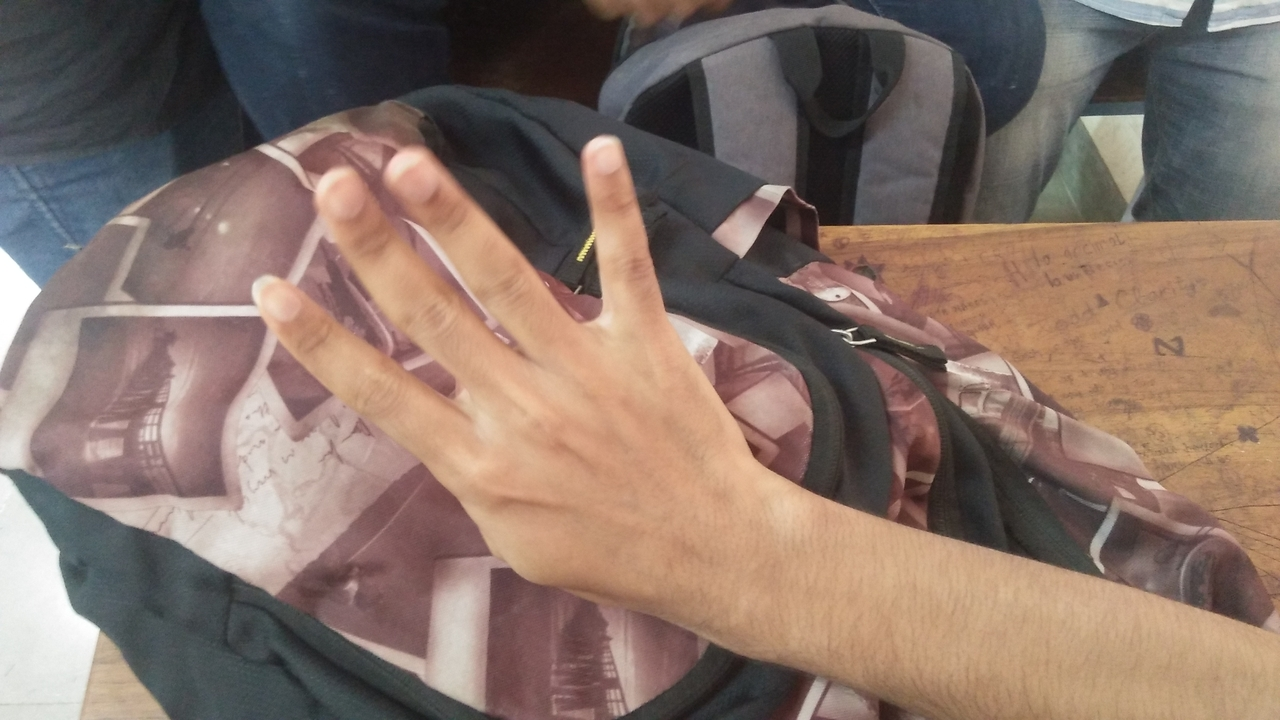fingertip: (572, 122, 640, 190), (232, 268, 308, 328), (310, 161, 371, 223), (387, 141, 439, 201)
